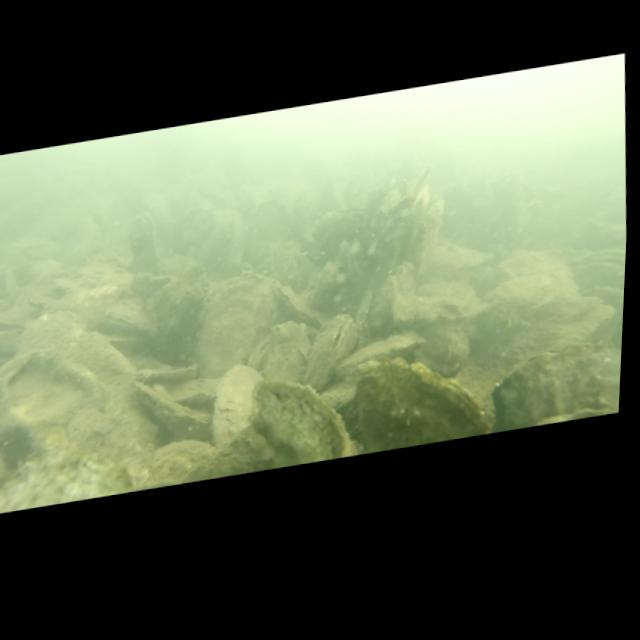Oyster-Closed: (350, 339, 496, 456), (486, 338, 612, 434), (247, 364, 356, 473), (146, 261, 214, 372), (129, 368, 214, 439), (299, 310, 360, 398), (330, 327, 426, 379), (369, 261, 422, 335), (417, 319, 473, 377), (273, 277, 323, 333), (162, 374, 223, 413), (333, 236, 367, 292), (312, 259, 342, 309), (279, 250, 306, 291), (354, 287, 372, 325)
Oyster-Indeterminate: (8, 296, 148, 454), (0, 337, 110, 440), (189, 270, 285, 383), (209, 360, 271, 453), (243, 318, 313, 395), (477, 269, 562, 332)
Oyster-Open: (395, 180, 448, 280), (123, 208, 162, 278), (0, 302, 39, 357), (99, 298, 152, 338)
